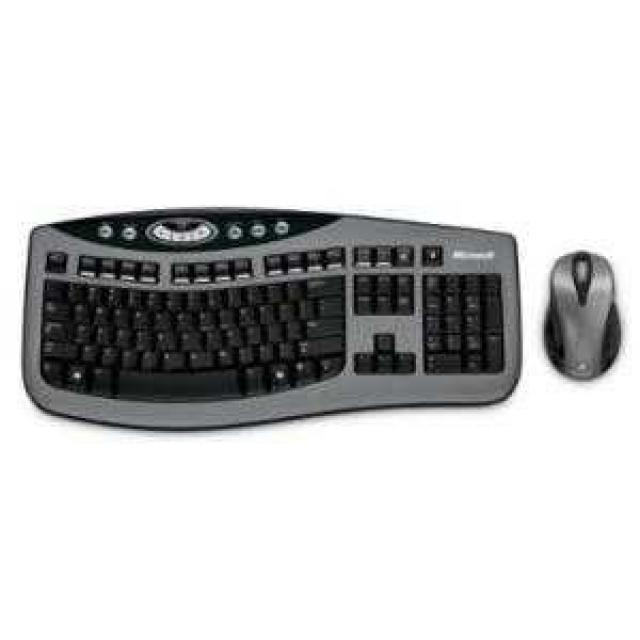keyboard: (30, 218, 521, 412)
